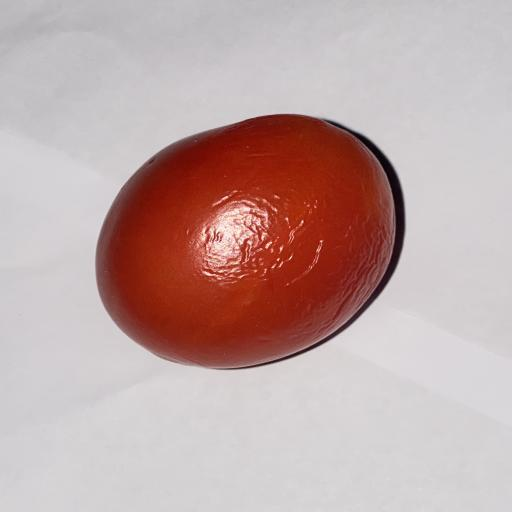spoiled: (96, 115, 395, 368)
